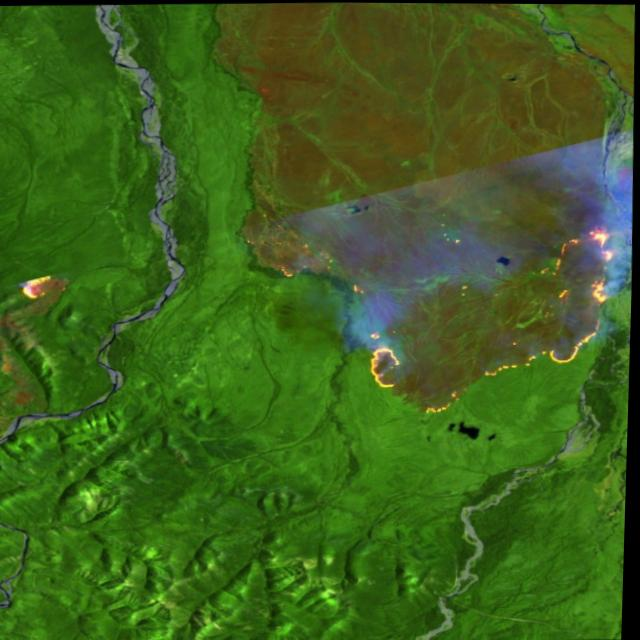fire: (418, 220, 635, 413), (347, 281, 411, 396), (13, 271, 71, 306)
